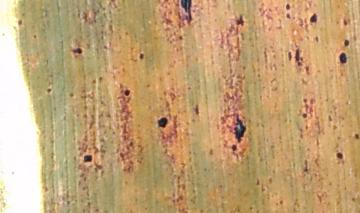tarspot: (232, 115, 247, 143), (180, 1, 193, 22), (293, 45, 301, 63), (338, 52, 348, 65), (157, 117, 168, 128), (308, 12, 318, 24), (82, 153, 93, 163), (236, 15, 245, 27), (229, 143, 238, 153), (303, 63, 311, 73), (343, 38, 350, 49), (73, 47, 82, 55), (194, 103, 200, 115), (335, 151, 343, 160), (123, 88, 131, 96), (313, 35, 321, 43), (101, 43, 109, 51), (287, 49, 292, 61), (16, 18, 23, 26), (301, 112, 309, 119), (341, 19, 349, 26), (328, 112, 333, 123), (139, 52, 145, 61), (89, 78, 98, 84), (68, 91, 75, 98), (285, 2, 291, 10), (285, 12, 291, 19), (302, 97, 309, 103), (354, 133, 360, 140), (98, 75, 104, 82), (32, 33, 38, 39), (178, 34, 184, 40), (47, 87, 52, 94)
